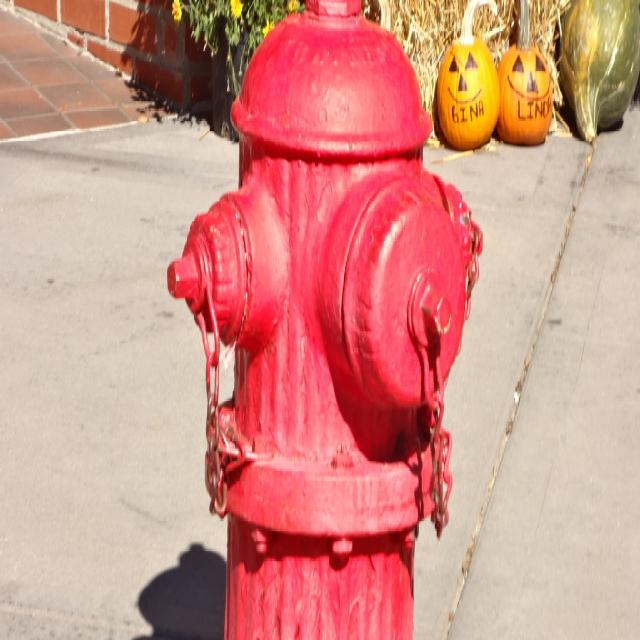fire_hydrant: (166, 0, 482, 639)
